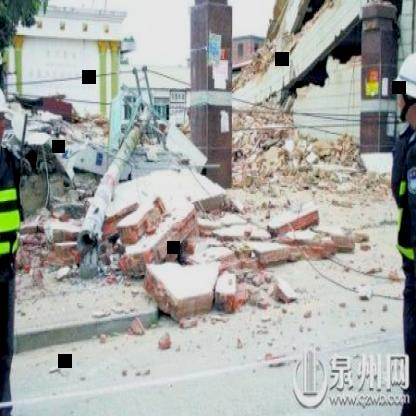helmet: (392, 48, 416, 130), (0, 74, 11, 152)
